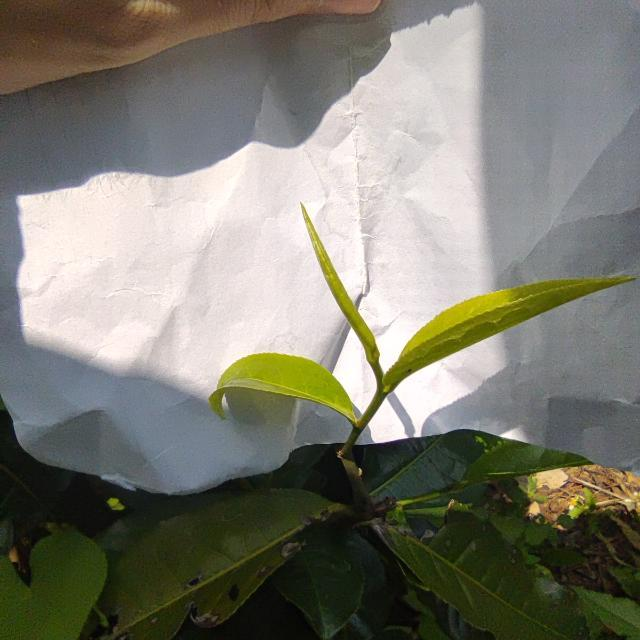Stem: (375, 392, 384, 404)
